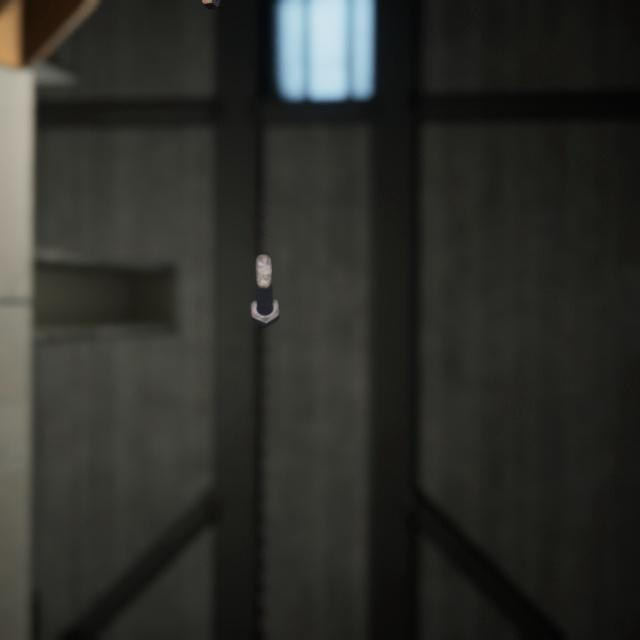bolt: (246, 231, 284, 314)
